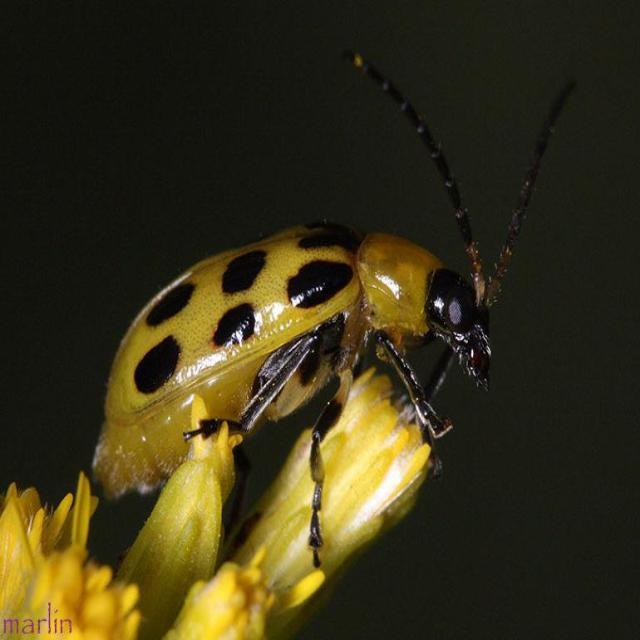gusano_verde: (95, 45, 584, 531)
